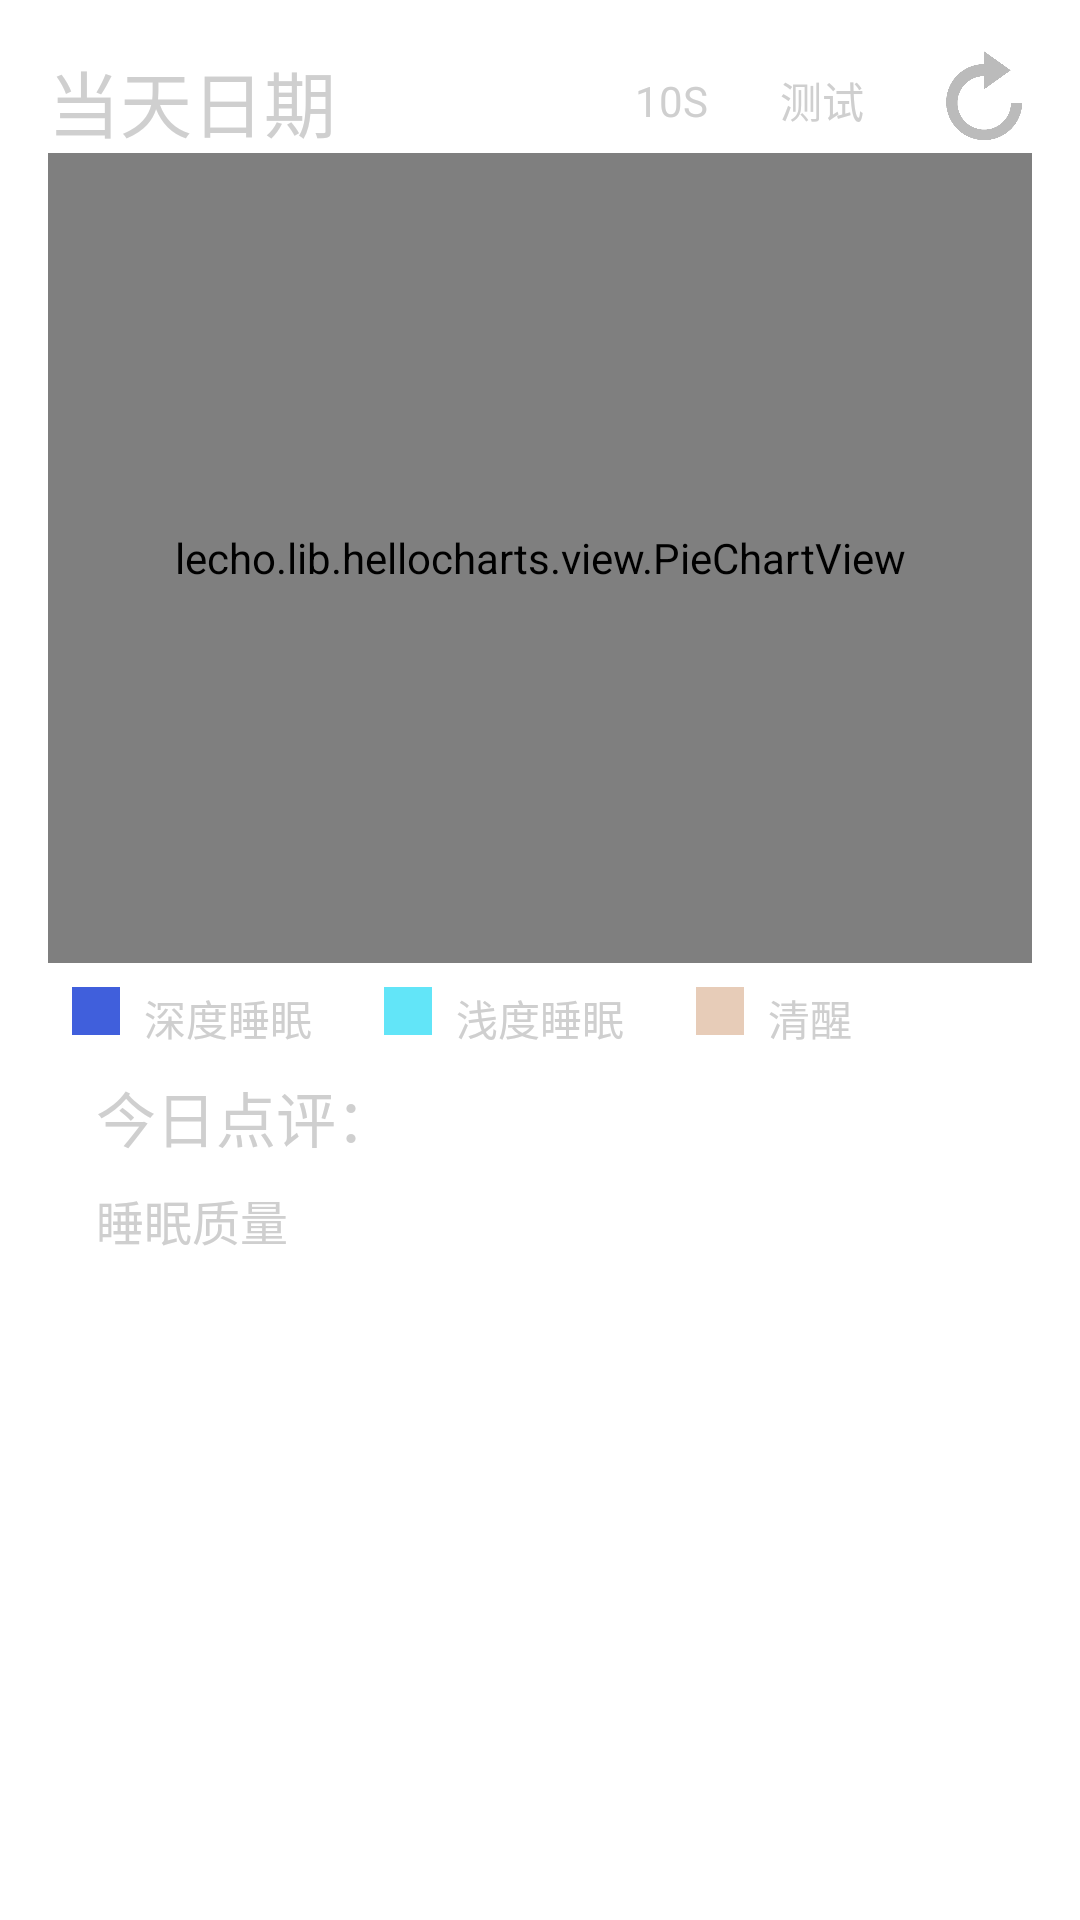

Screen size 1080 × 1920. Icon name, then its box in pixels as (x1, y1, x2, y2):
home sleep refresh: (946, 52, 1022, 140)
